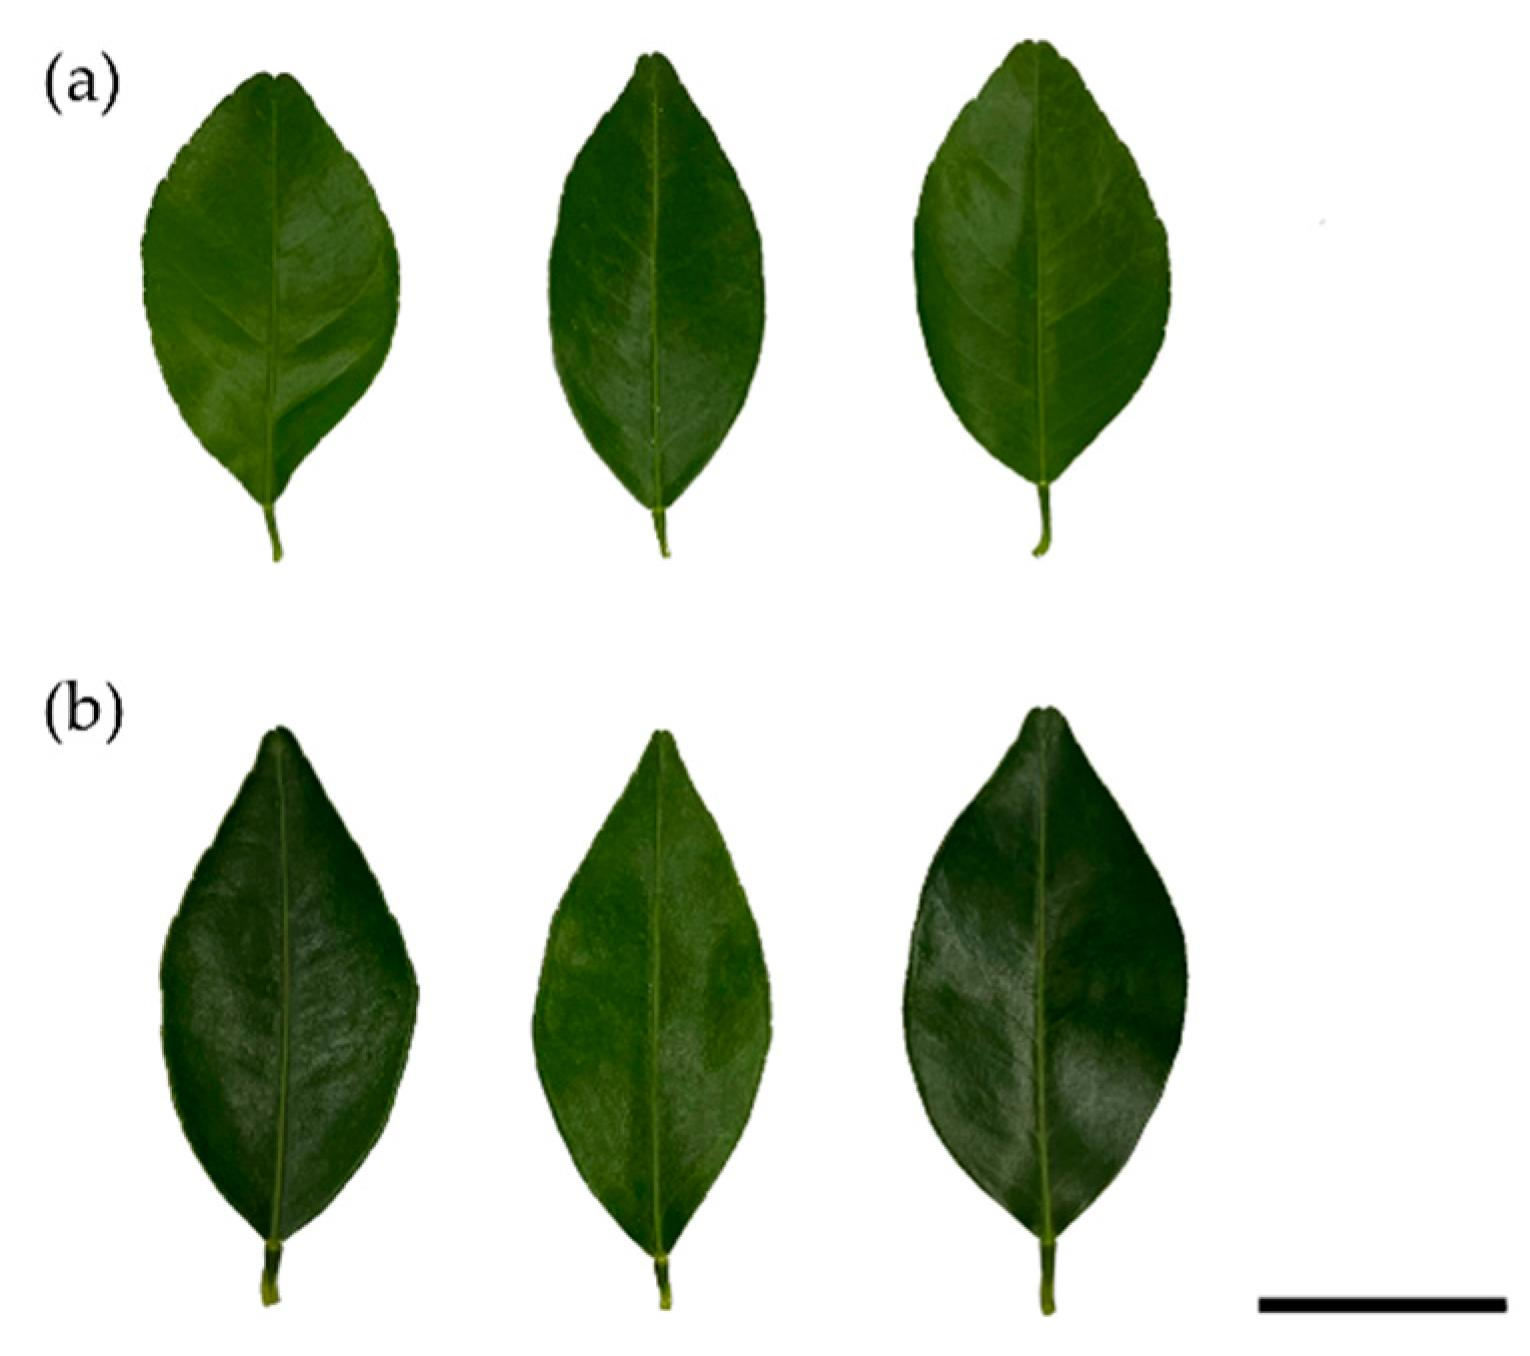Healthy Citrus: (906, 707, 1158, 1254), (161, 709, 397, 1274), (920, 26, 1173, 513), (140, 59, 408, 499), (544, 42, 768, 505), (552, 755, 760, 1246)
